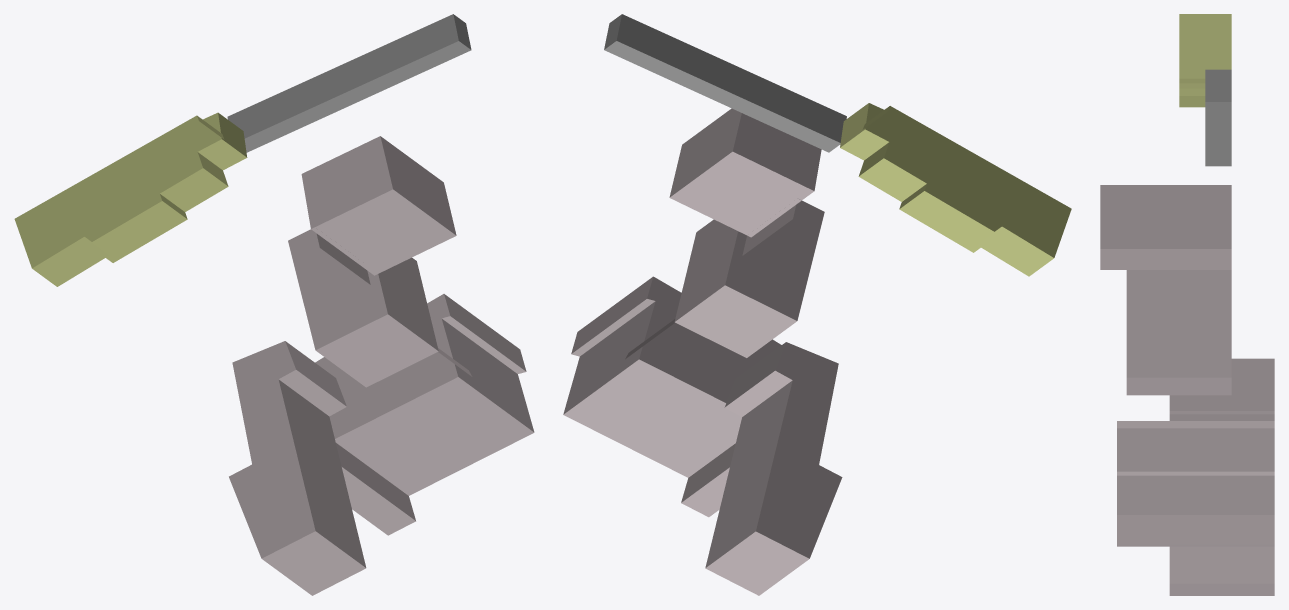
The picture shows the model from 3 angles, left to right: view 1: azimuth 30°, elevation 25°; view 2: azimuth 150°, elevation 25°; view 3: azimuth 270°, elevation 25°; orthographic projection. The views are drawn at different scales.
Visible parts, largest first — view 1: 0_3_0_1_2_1_1_3; view 2: 0_3_0_1_2_1_1_3; view 3: 0_3_0_1_2_1_1_3.
Boxes of the visible parts, <box> form: 0_3_0_1_2_1_1_3: <box>14,14,534,595</box>; 0_3_0_1_2_1_1_3: <box>563,14,1071,595</box>; 0_3_0_1_2_1_1_3: <box>1100,14,1274,595</box>.
Bounding box in the file's own units: 63.33 × 67.51 × 19.9.
